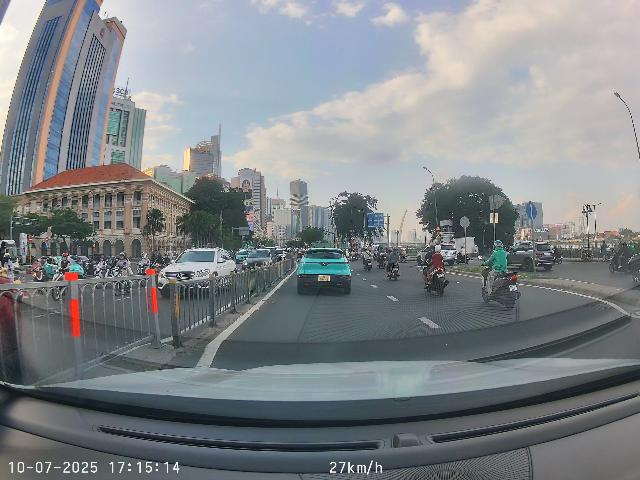301a-cac-xe-chi-duoc-di-thang: (526, 202, 537, 220)
